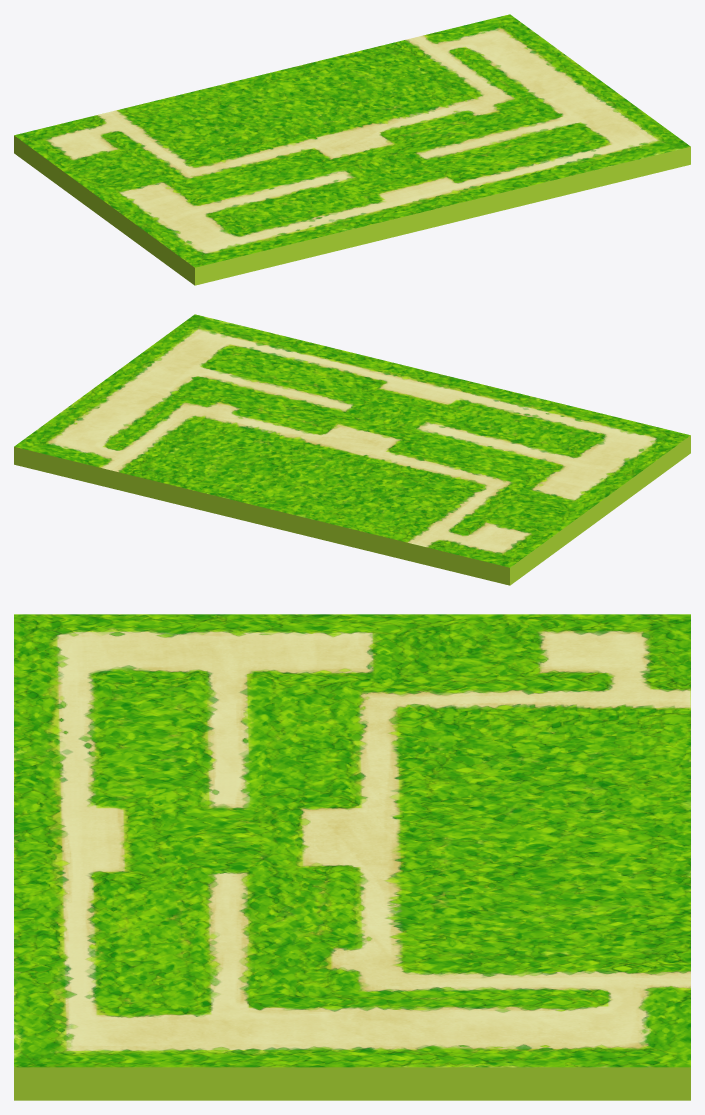
The model's file is Stage.fbx.
The picture shows the model from 3 angles, top to bottom: view 1: azimuth 30°, elevation 25°; view 2: azimuth 150°, elevation 25°; view 3: azimuth 270°, elevation 25°; orthographic projection. The views are drawn at different scales.
Parts seen in each view (by area): view 1: pCube1; view 2: pCube1; view 3: pCube1.
Boxes of the visible parts, <box> form: pCube1: <box>14,14,690,285</box>; pCube1: <box>14,314,690,585</box>; pCube1: <box>14,614,690,1100</box>.
Bounding box in the file's own units: 127 × 4.41 × 80.42.
